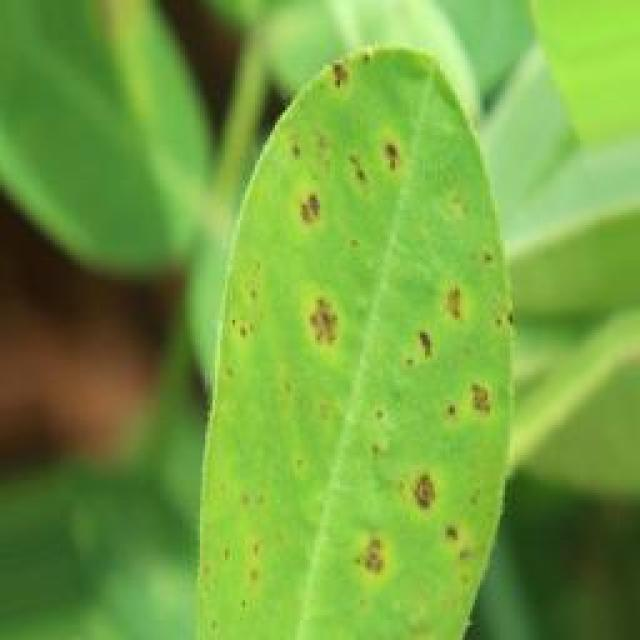Sigatoka: (282, 41, 413, 240), (314, 441, 465, 594), (384, 256, 516, 426), (244, 283, 363, 397), (218, 491, 277, 595)
